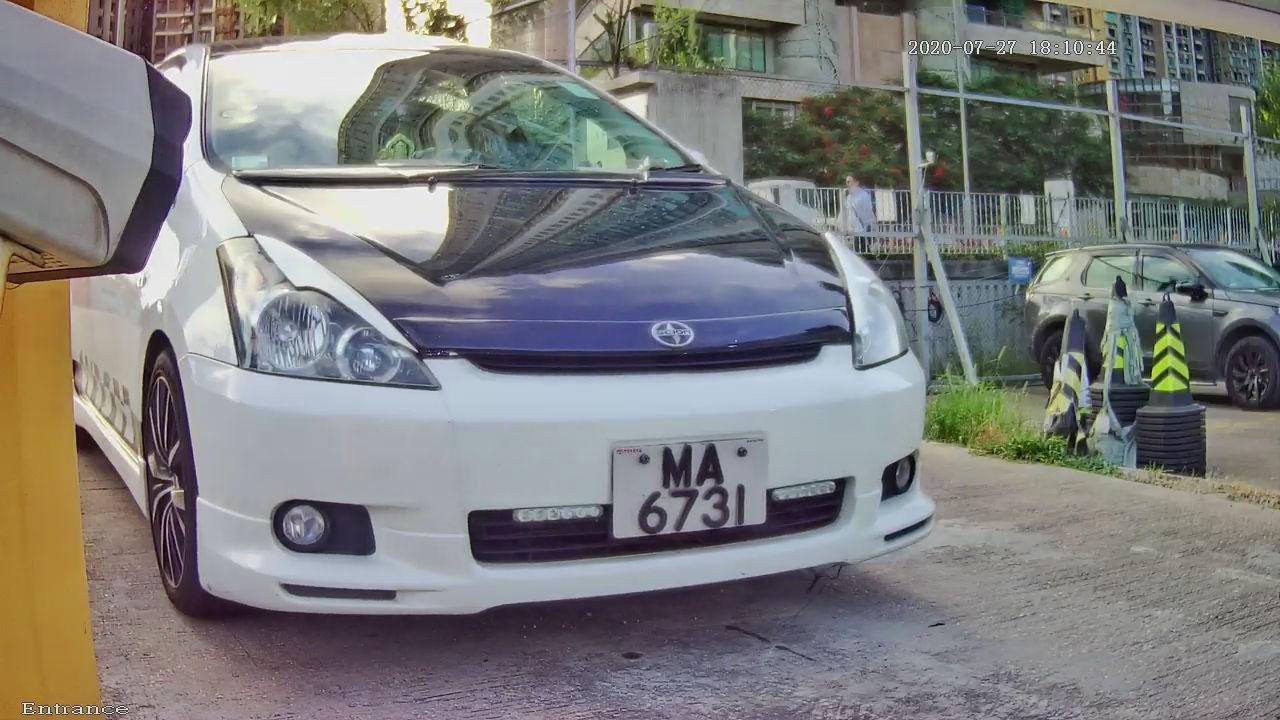privatecar: (81, 33, 1063, 643)
